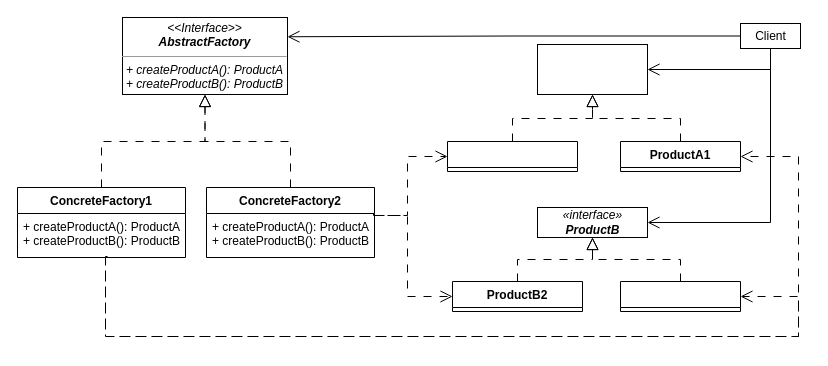
This 828x366 diagram has some shape labels left out. The centre of each missing label's shape, as x and y in pixels:
"ProductA2" belongs at point (512, 156).
"ProductB1" belongs at point (680, 296).
"«interface» ProductA" belongs at point (592, 69).
